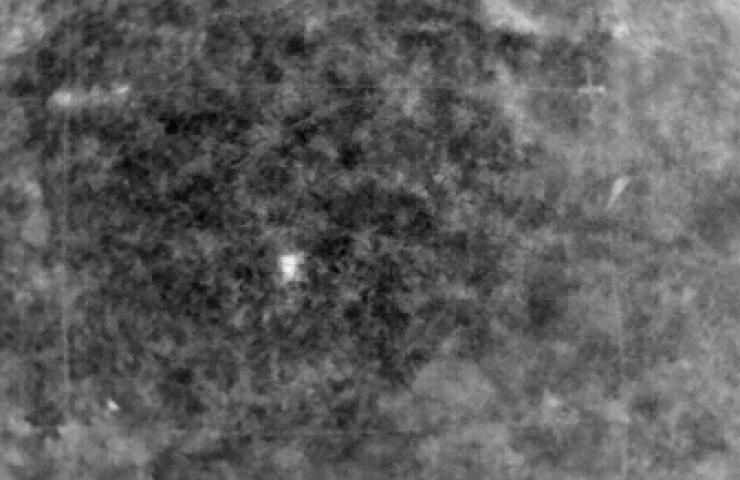landmines: (277, 250, 307, 282)
